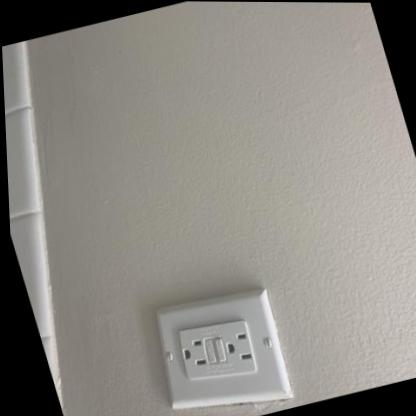OUTLET: (143, 279, 295, 416)
